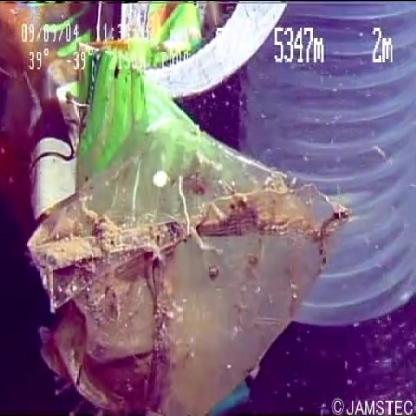Rác: (27, 84, 352, 412)
